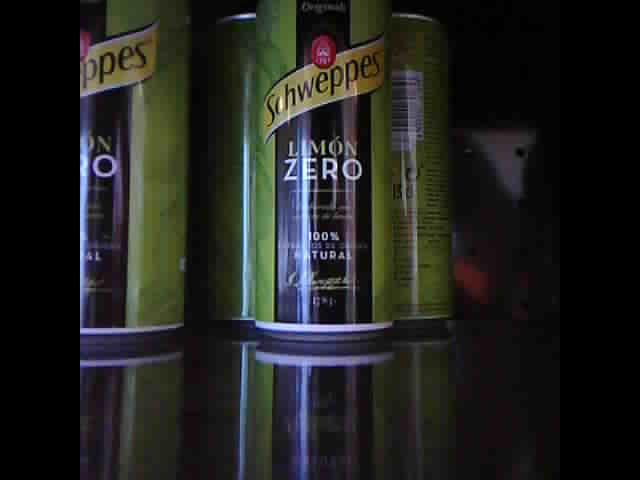schweppes: (213, 5, 393, 344), (79, 4, 191, 339), (394, 10, 449, 326)
